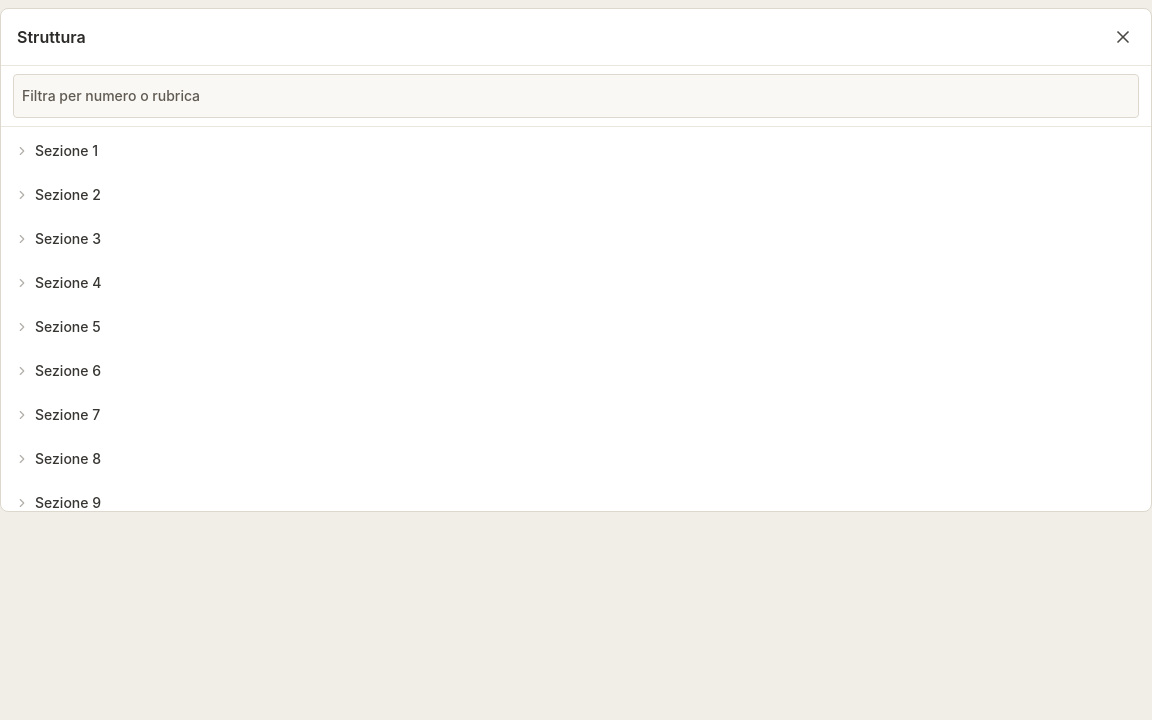
Scenario: TreeViewPanel — collapsible sections › auto-expands matching sections while a filter is active
Type "401" into the search field named "Filtra gli articoli per numero o rubrica" at (576,96), box x1=13 y1=74 x2=1139 y2=118
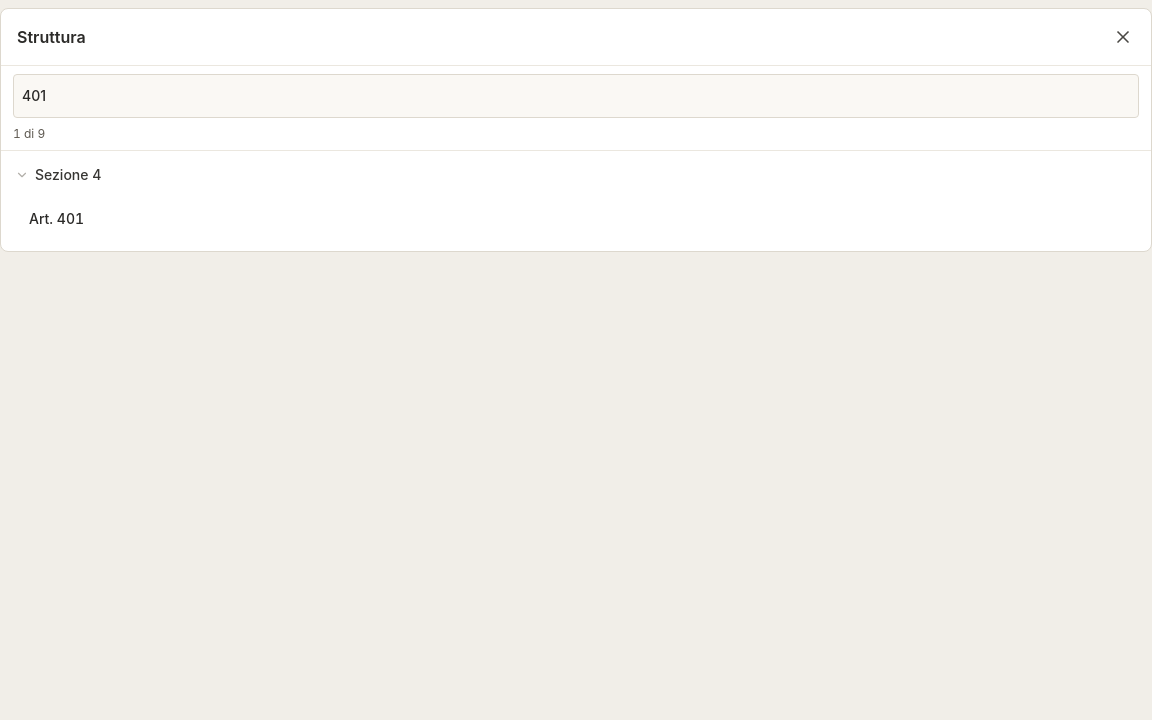
Check: the button "Art. 401" is shown, box x1=7 y1=201 x2=1145 y2=245
Check: the button "Sezione 1" is gone
